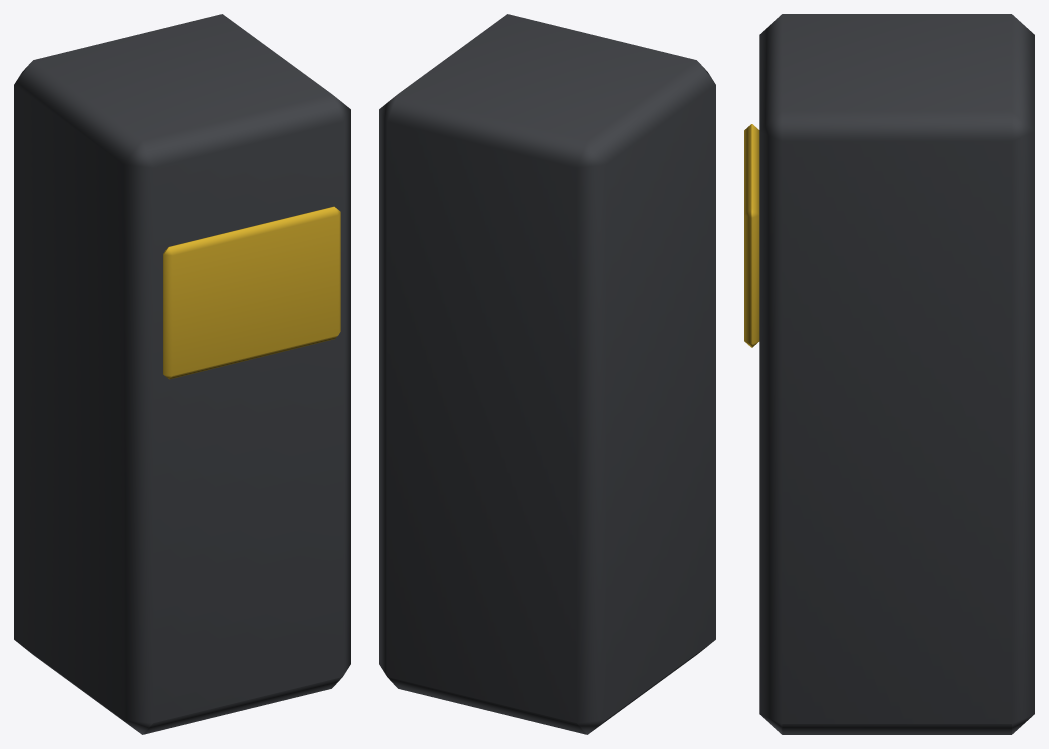
Rendered from GatePostFL.fbx.
3 renders of one model, left to right at view 1: azimuth 30°, elevation 25°; view 2: azimuth 150°, elevation 25°; view 3: azimuth 270°, elevation 25°, orthographic. The views are drawn at different scales.
Parts seen in each view (by area): view 1: GatePostFL; view 2: GatePostFL; view 3: GatePostFL.
Boxes of the visible parts, x1,y1,x2,y2 form: GatePostFL: (14,14,350,734); GatePostFL: (379,14,715,734); GatePostFL: (744,14,1034,734).
Bounding box in the file's own units: 0.36 × 0.9 × 0.38.
